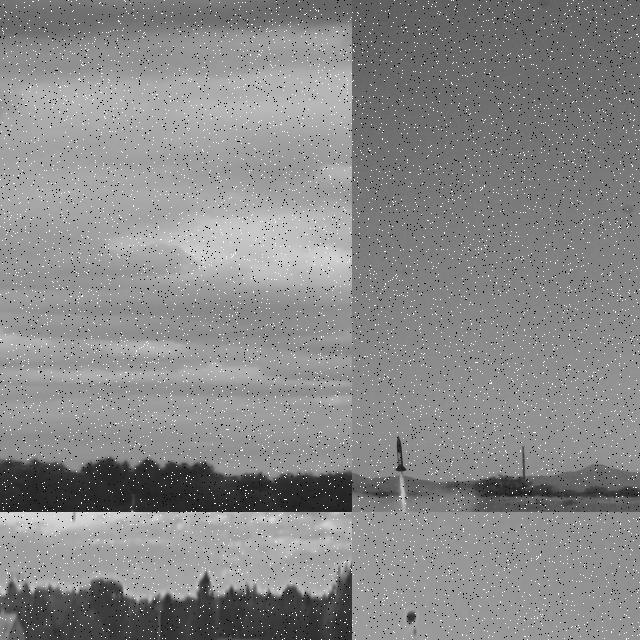Rocket: (396, 436, 406, 472), (130, 494, 136, 510), (72, 512, 77, 521)
